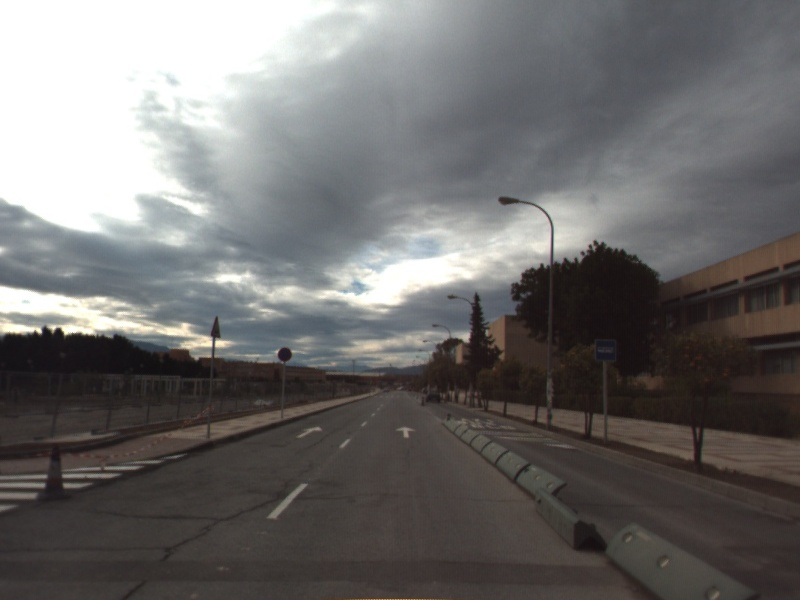STRAIGHT: (294, 424, 324, 440), (394, 424, 418, 440)
